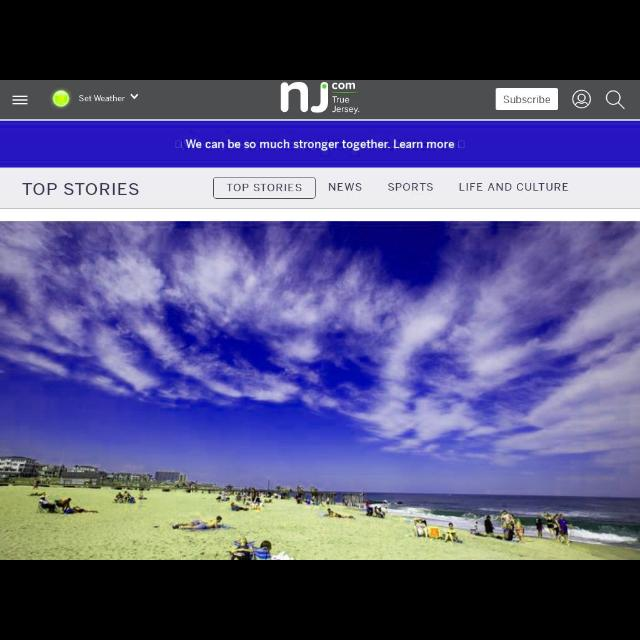icon: (570, 90, 594, 110), (606, 90, 630, 110), (8, 90, 30, 108), (128, 90, 138, 104)
iframe: (2, 125, 638, 163)
image: (3, 208, 639, 552), (276, 87, 360, 115), (52, 85, 70, 108)
multitab: (3, 168, 639, 208)
spinner: (78, 88, 138, 105)
text: (20, 177, 140, 200), (456, 180, 568, 192), (226, 178, 302, 194), (388, 178, 438, 194), (504, 94, 550, 110), (328, 182, 364, 194), (78, 95, 125, 104)
textbutton: (213, 176, 314, 200), (496, 89, 558, 111)
toolbar: (1, 84, 639, 120)
